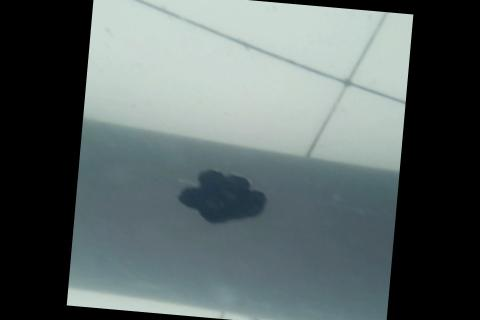kebocoran: (172, 164, 274, 228)
